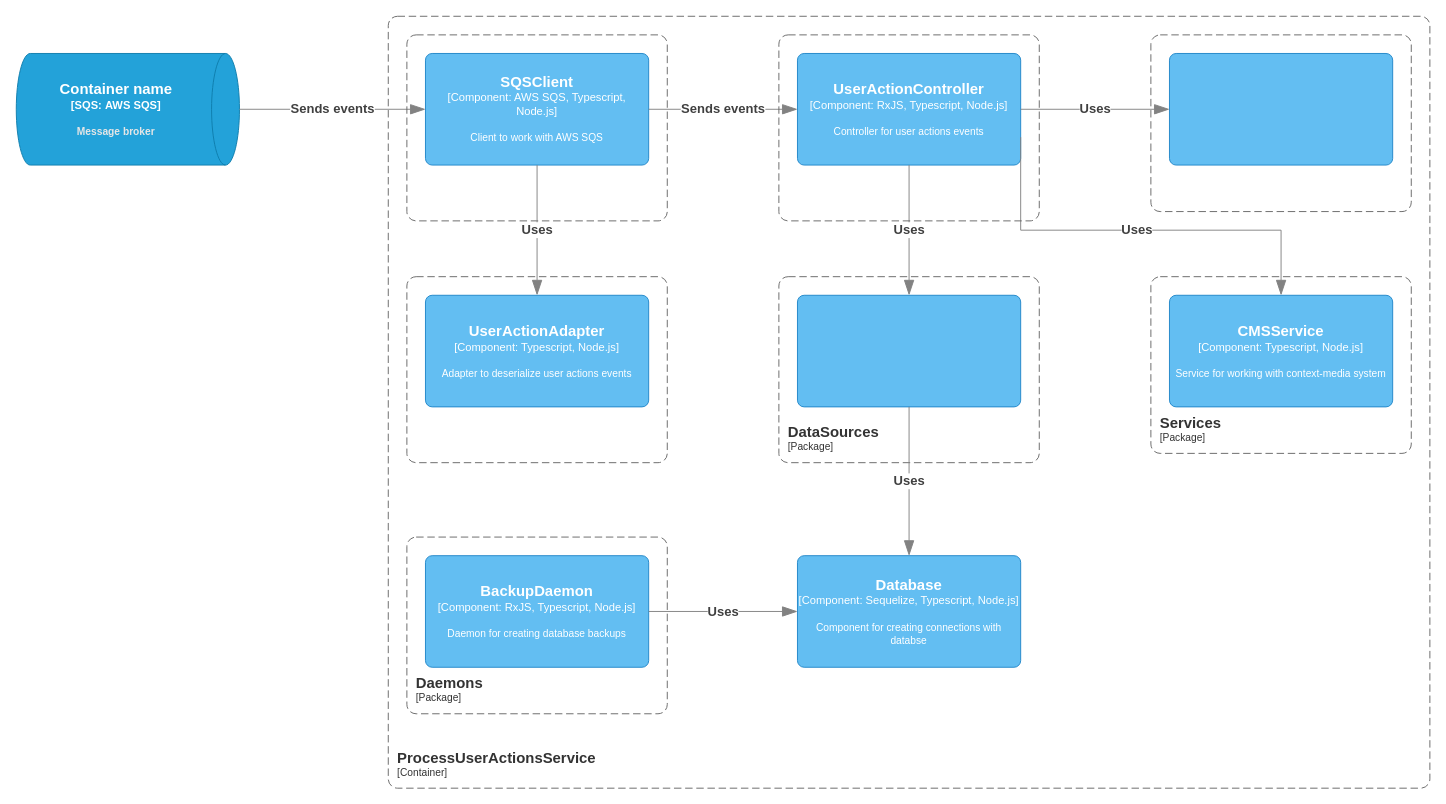
Image size: 1446x804. Some labels were removed from this diagram. The box of each missing label's shape, as (x1, y1, x2, y2) in pixels:
ActionDataSource [Component: Sequelize, Typescript, Node.js] Actions data source: (797, 294, 1021, 407)
Adapters [Package]: (406, 276, 667, 463)
Clients [Package]: (406, 34, 667, 221)
Controllers [Package]: (778, 34, 1039, 221)
Enums [Package]: (1150, 34, 1411, 212)
UserAction [Component: Typescript, Node.js] Enum with user actions: (1169, 53, 1393, 165)
